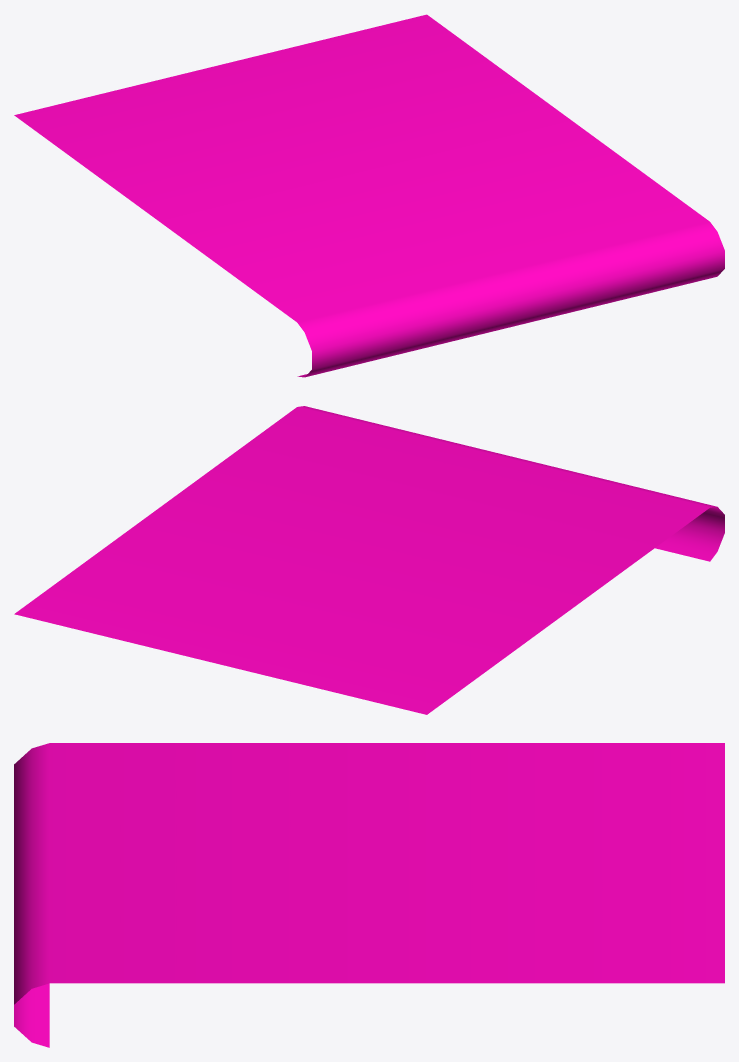
File: Cinta_Fin_Cinta.FBX
The picture shows the model from 3 angles, top to bottom: view 1: azimuth 30°, elevation 25°; view 2: azimuth 150°, elevation 25°; view 3: azimuth 270°, elevation 25°; orthographic projection. The views are drawn at different scales.
Parts seen in each view (by area): view 1: Cinta_Fin_Cinta; view 2: Cinta_Fin_Cinta; view 3: Cinta_Fin_Cinta.
Boxes of the visible parts, left/top/right/bottom form: Cinta_Fin_Cinta: left=14, top=14, right=724, bottom=377; Cinta_Fin_Cinta: left=14, top=406, right=724, bottom=714; Cinta_Fin_Cinta: left=14, top=743, right=724, bottom=1047.
Size of the model in its own units: 80 by 10 by 100.
